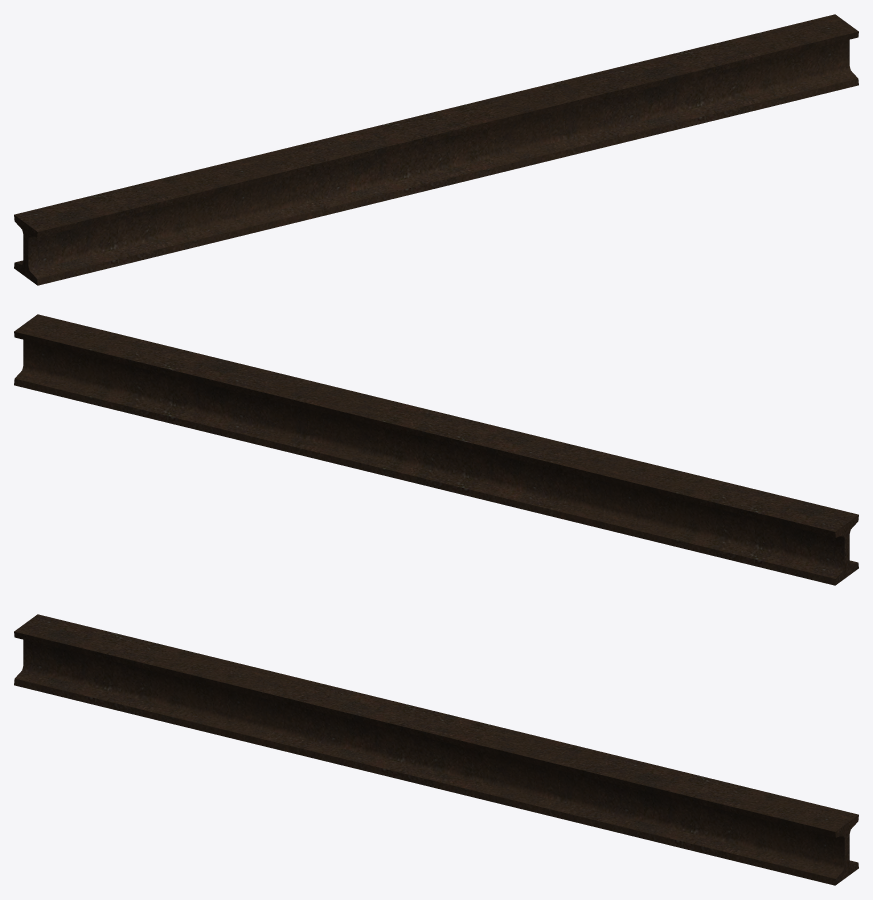
Rendered from beam_4.obj.
3 views of the same model, one above another, from view 1: azimuth 30°, elevation 25°; view 2: azimuth 150°, elevation 25°; view 3: azimuth 330°, elevation 25° (orthographic).
Parts seen in each view (by area): view 1: beam_4; view 2: beam_4; view 3: beam_4.
Part boxes in pixels (box(x1,y1,x2,y2)): beam_4: box(14, 14, 858, 285); beam_4: box(14, 314, 858, 585); beam_4: box(14, 614, 858, 885).
Size of the model in its own units: 4 by 0.25 by 0.2.
